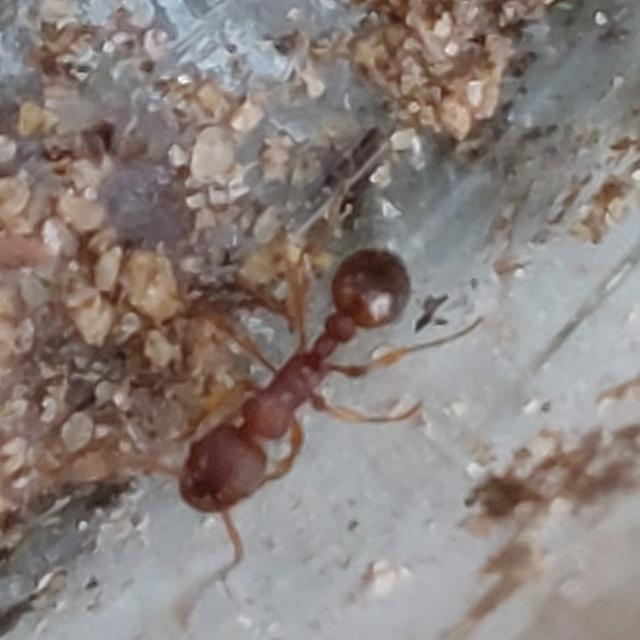Myrmica: (146, 207, 458, 556)
